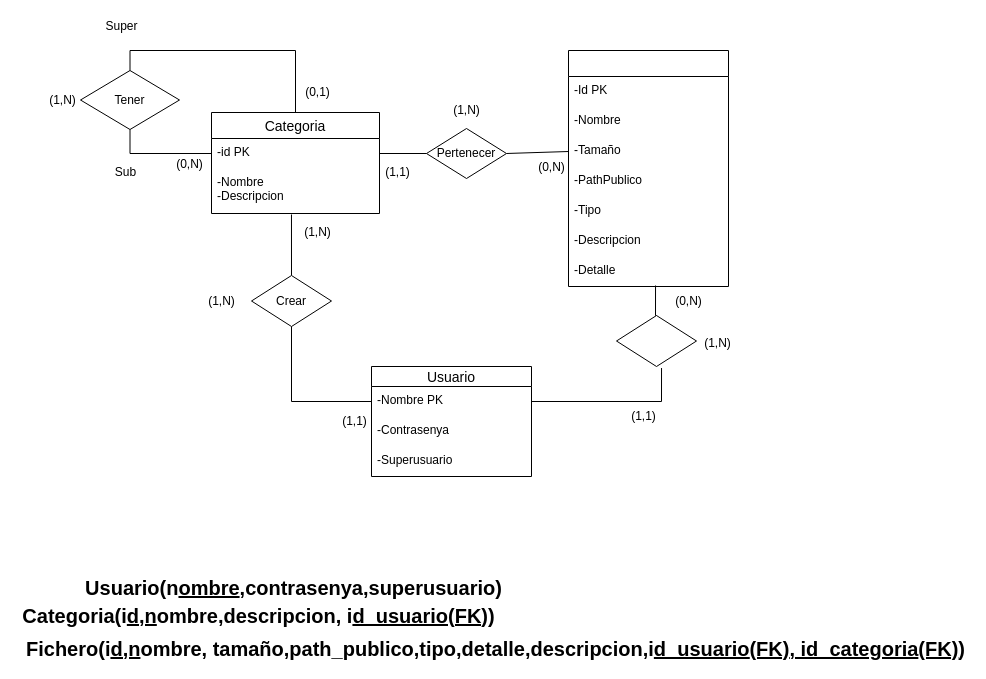
The diagram is 986 pixels wide and 679 high, and some of its shapes have lost their labels. Each missing label, with the box of its shape:
Fichero: (568, 50, 728, 286)
Subir: (616, 314, 696, 366)
